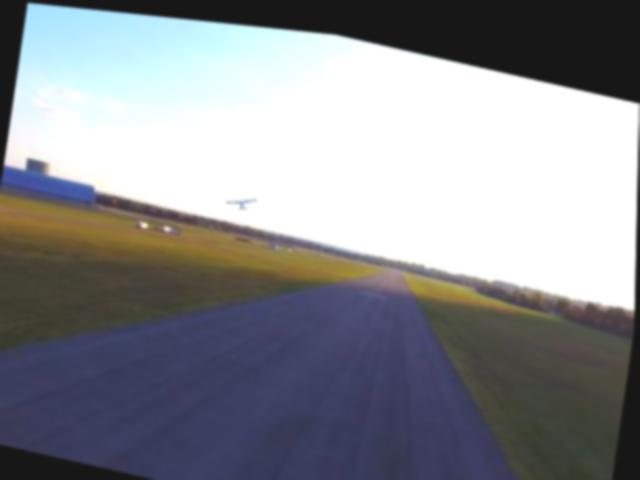uav: (223, 184, 261, 209)
